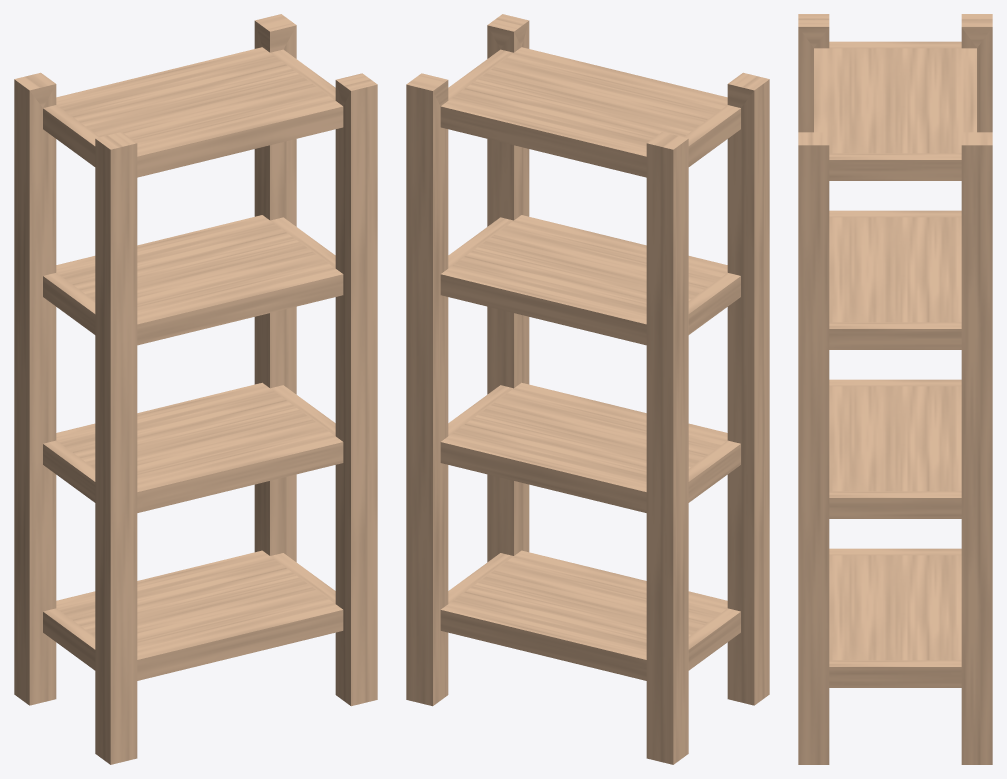
File: bookcaseOpen.glb
3 views of the same model, side by side, from view 1: azimuth 30°, elevation 25°; view 2: azimuth 150°, elevation 25°; view 3: azimuth 270°, elevation 25° (orthographic).
Parts seen in each view (by area): view 1: bookcaseOpen; view 2: bookcaseOpen; view 3: bookcaseOpen.
Part boxes in pixels (left/top/right/bottom): bookcaseOpen: left=14, top=14, right=377, bottom=764; bookcaseOpen: left=406, top=14, right=769, bottom=764; bookcaseOpen: left=798, top=14, right=992, bottom=764.
Bounding box in the file's own units: 0.4 × 0.88 × 0.25.
1 material, 1 textured.
